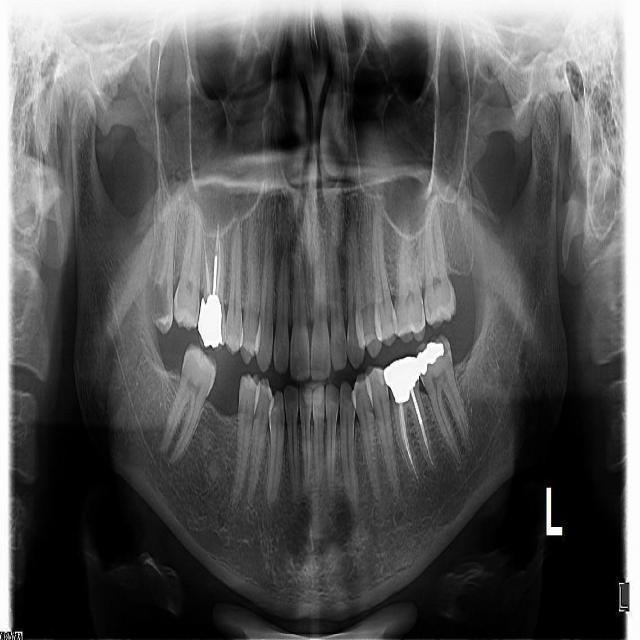71: (410, 388, 423, 425), (212, 254, 217, 296)
74: (396, 400, 418, 482), (419, 422, 434, 465), (203, 234, 212, 296), (216, 241, 222, 296), (215, 224, 220, 252)
NucleOSS Implant: (378, 351, 432, 405), (408, 335, 449, 378), (196, 294, 223, 348)
Sterngold Implant: (148, 279, 171, 323), (436, 334, 452, 359), (417, 299, 425, 314)
